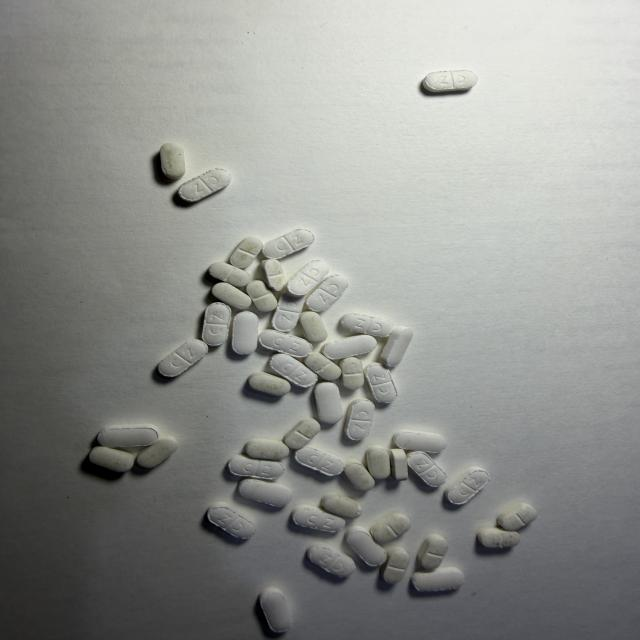pill: (158, 339, 208, 377), (178, 169, 231, 201), (445, 466, 489, 504), (345, 526, 386, 566), (307, 543, 355, 577), (269, 354, 317, 388), (207, 505, 255, 539), (263, 229, 314, 259), (259, 587, 292, 633), (307, 275, 348, 312), (287, 260, 329, 296), (258, 330, 312, 358), (239, 479, 292, 507), (97, 424, 158, 448), (292, 505, 346, 532), (295, 447, 343, 476), (322, 335, 377, 360), (407, 452, 446, 487), (228, 455, 284, 479), (380, 327, 413, 367), (365, 363, 397, 403), (202, 302, 231, 346), (136, 437, 177, 468), (412, 567, 464, 591), (370, 513, 410, 544), (344, 399, 374, 440), (340, 313, 393, 336), (272, 294, 304, 332), (314, 382, 343, 423), (497, 502, 537, 531), (89, 447, 135, 472), (394, 431, 446, 453), (423, 71, 477, 92), (232, 311, 258, 354), (284, 418, 320, 449), (212, 282, 251, 310), (418, 534, 448, 570), (321, 492, 361, 518), (230, 237, 262, 269), (245, 437, 289, 460), (305, 352, 341, 380), (248, 372, 290, 396), (381, 547, 409, 583), (344, 459, 375, 491), (209, 262, 250, 286), (246, 280, 277, 311), (160, 143, 185, 179), (477, 527, 519, 548), (300, 312, 327, 343), (366, 446, 390, 479), (261, 260, 286, 291), (340, 357, 364, 389), (390, 449, 408, 480)
